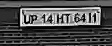1: (85, 10, 93, 24), (92, 11, 98, 23), (41, 13, 46, 24)
4: (79, 12, 87, 24), (47, 14, 53, 25)
6: (73, 12, 80, 23)
H: (56, 13, 65, 25)
P: (30, 14, 37, 24)
T: (63, 13, 72, 23)
U: (22, 12, 31, 25)
